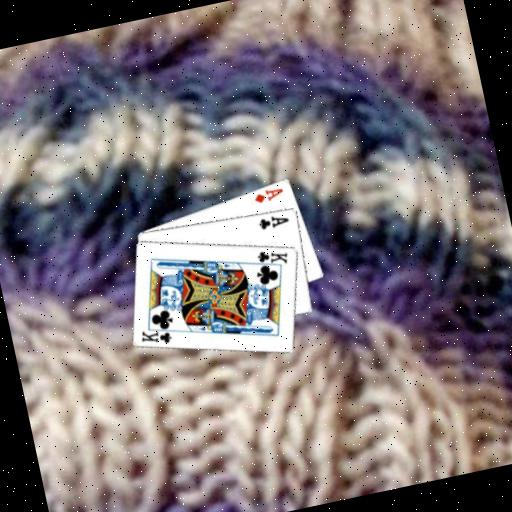AC: (254, 209, 291, 232)
AD: (249, 183, 286, 206)
KC: (136, 319, 179, 350), (249, 242, 291, 273)
